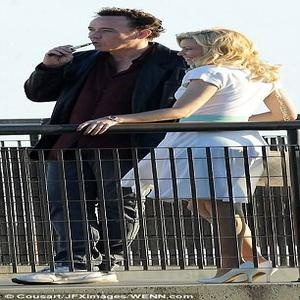cigarette: (68, 39, 100, 51)
